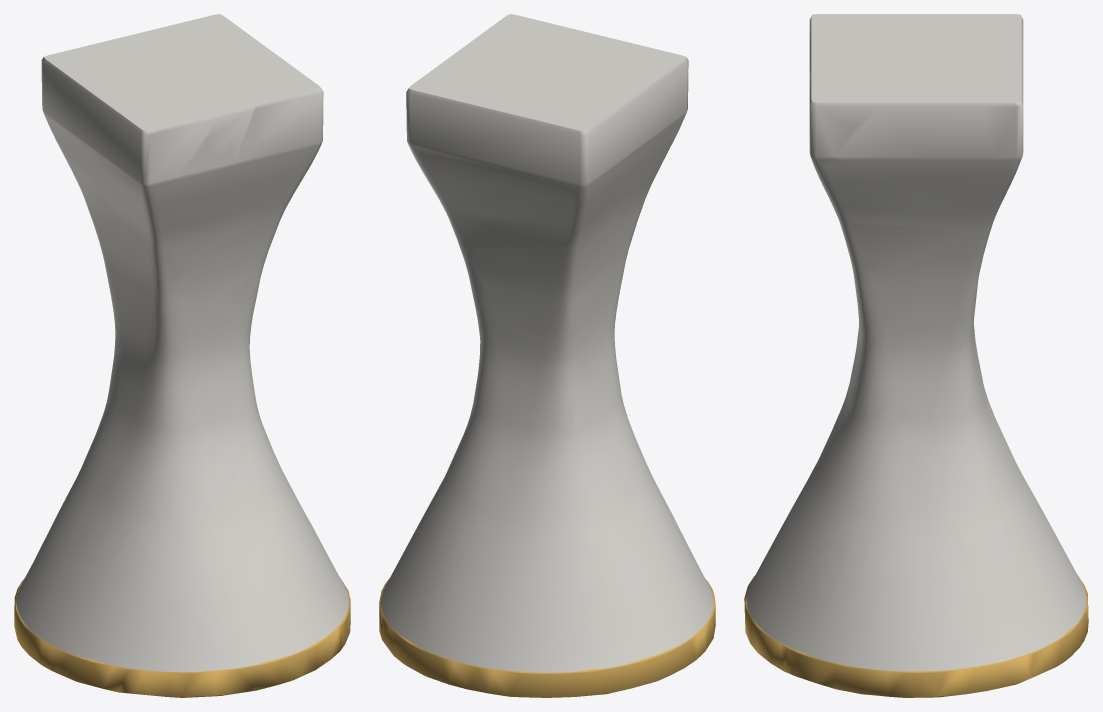
The model's file is 02_vez_bila.glb.
The picture shows the model from 3 angles, left to right: view 1: azimuth 30°, elevation 25°; view 2: azimuth 150°, elevation 25°; view 3: azimuth 270°, elevation 25°; orthographic projection. The views are drawn at different scales.
Visible parts, largest first — view 1: 02_vez_telo_0, 02_vez_podstavec; view 2: 02_vez_telo_0, 02_vez_podstavec; view 3: 02_vez_telo_0, 02_vez_podstavec.
Boxes of the visible parts, left/top/right/bottom form: 02_vez_telo_0: left=16, top=14, right=348, bottom=672; 02_vez_podstavec: left=14, top=578, right=350, bottom=697; 02_vez_telo_0: left=381, top=14, right=713, bottom=672; 02_vez_podstavec: left=379, top=579, right=715, bottom=697; 02_vez_telo_0: left=746, top=14, right=1086, bottom=671; 02_vez_podstavec: left=744, top=576, right=1088, bottom=697.
Bounding box in the file's own units: 0.044 × 0.08 × 0.044.
